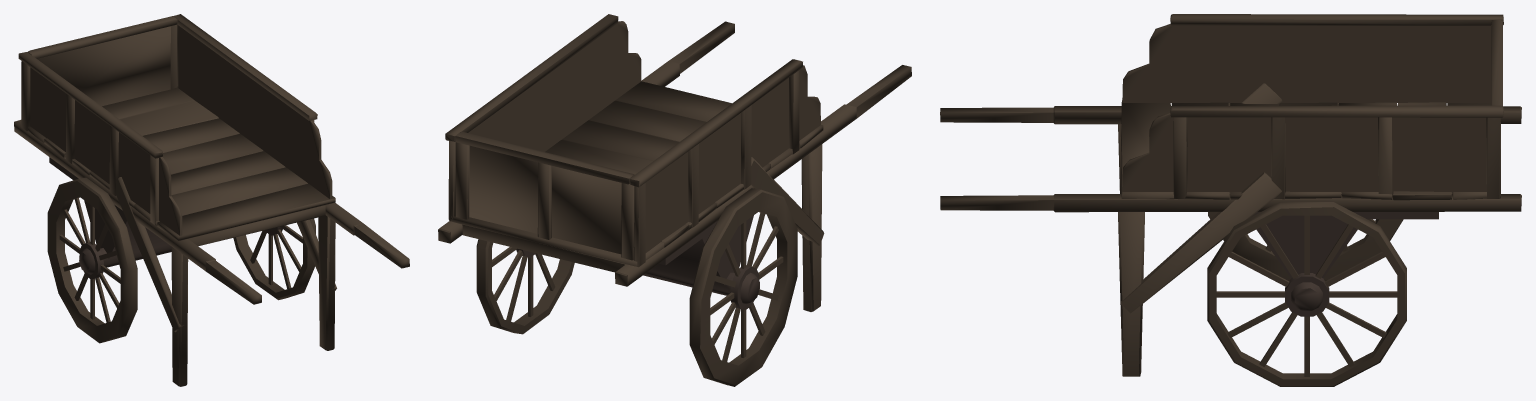
The model's file is farm_barrow.glb.
3 views of the same model, side by side, from view 1: azimuth 30°, elevation 25°; view 2: azimuth 150°, elevation 25°; view 3: azimuth 270°, elevation 25° (orthographic). The views are drawn at different scales.
Parts seen in each view (by area): view 1: farm_barrow; view 2: farm_barrow; view 3: farm_barrow.
Part boxes in pixels (x1,y1,x2,y2): farm_barrow: (14, 14, 409, 386); farm_barrow: (438, 14, 911, 386); farm_barrow: (940, 14, 1521, 386).
Bounding box in the file's own units: 1.17 × 1.27 × 2.48.
Materials: 1 (1 with a texture image).
